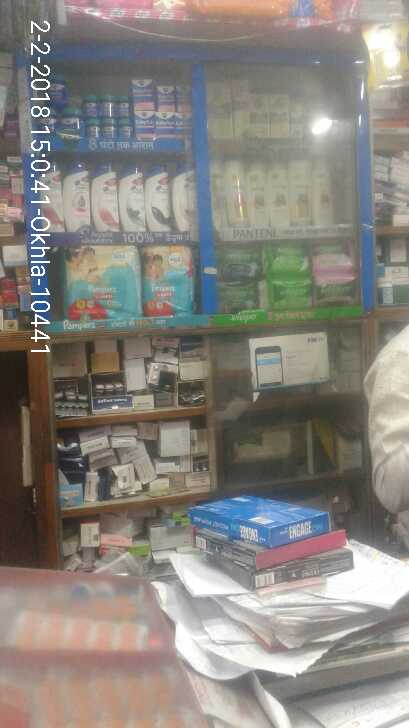vicks: (40, 68, 193, 137)
